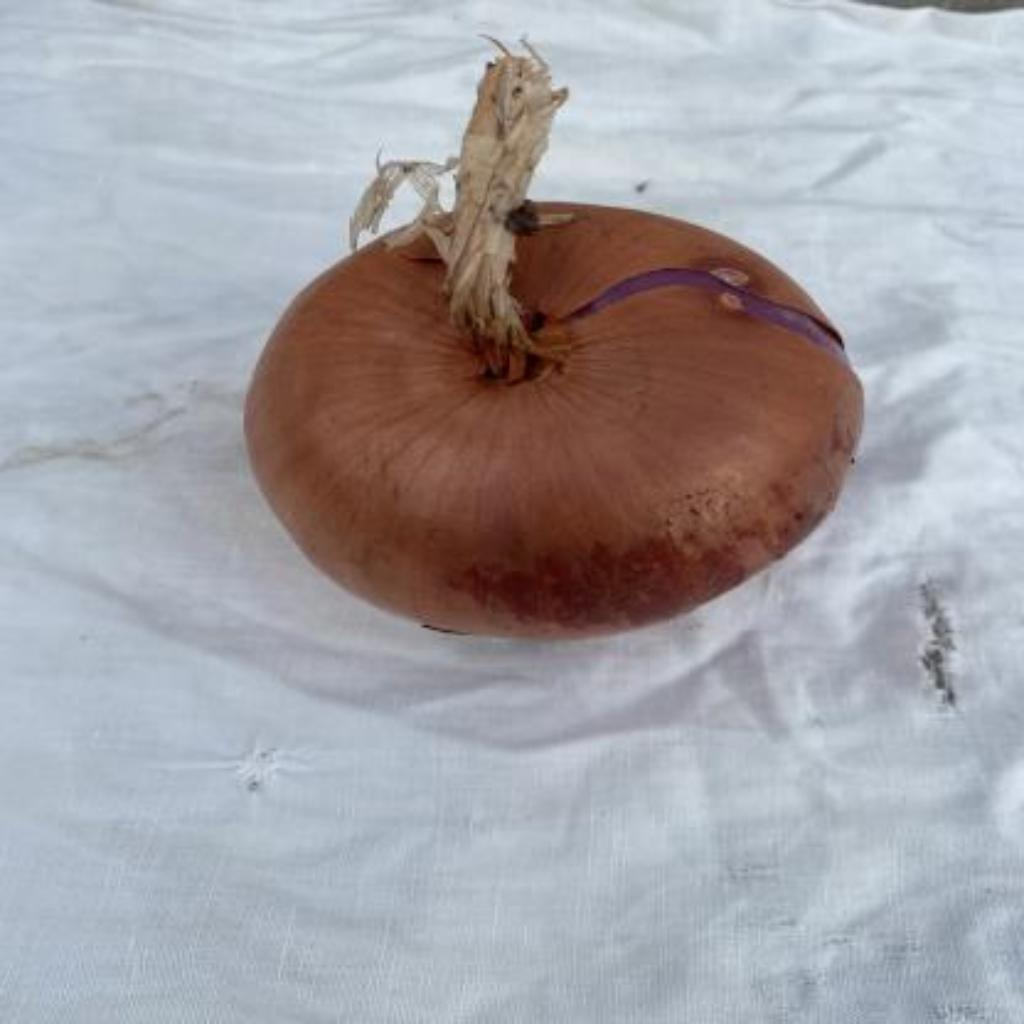Onion: (246, 44, 864, 636)
